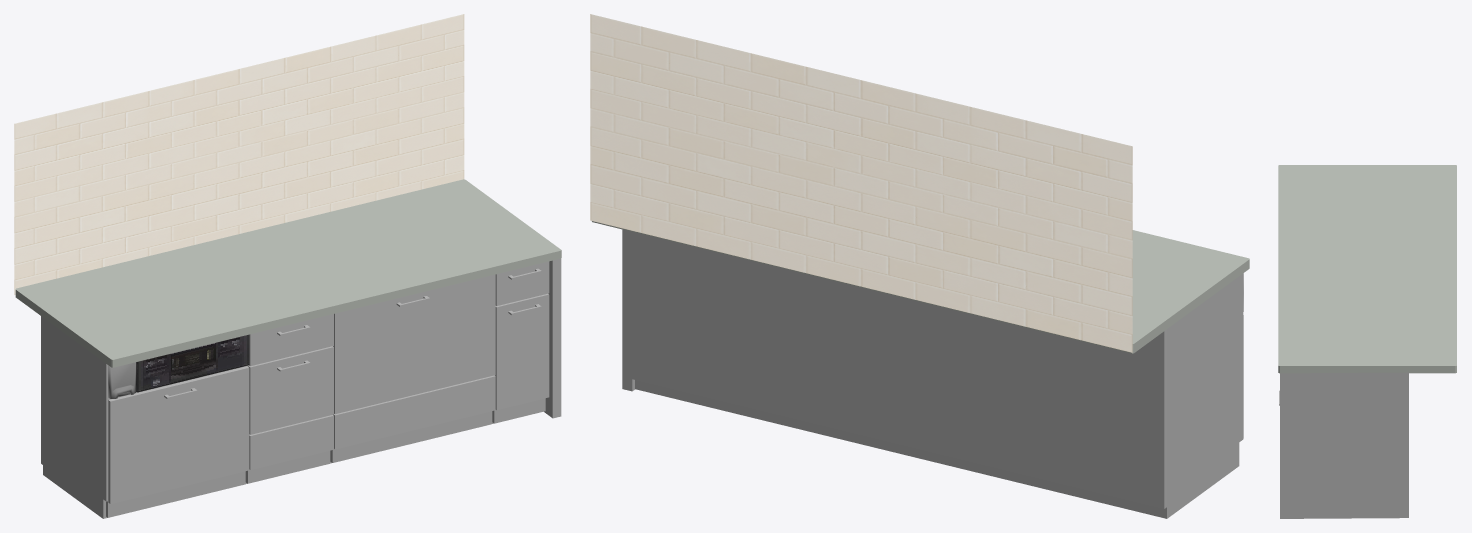
Rendered from simple.gltf.
The picture shows the model from 3 angles, left to right: view 1: azimuth 30°, elevation 25°; view 2: azimuth 150°, elevation 25°; view 3: azimuth 270°, elevation 25°; orthographic projection. The views are drawn at different scales.
Parts seen in each view (by area): view 1: 平面.003, 4_primitive.002, 3_primitive.002, 5_primitive.002, 14_primitive.002, 7_primitive.002, 8_primitive.002, 17_primitive.002; view 2: 平面.003, 6_primitive.002, 5_primitive.002, 3_primitive.002, 7_primitive.002; view 3: 3_primitive.002, 7_primitive.002.
Part boxes in pixels (<box>): 平面.003: <box>14,14,464,294</box>; 4_primitive.002: <box>108,261,549,503</box>; 3_primitive.002: <box>15,179,561,367</box>; 5_primitive.002: <box>43,317,545,518</box>; 14_primitive.002: <box>136,334,249,392</box>; 7_primitive.002: <box>544,258,561,418</box>; 8_primitive.002: <box>108,362,136,398</box>; 17_primitive.002: <box>164,268,541,399</box>; 平面.003: <box>590,14,1132,352</box>; 6_primitive.002: <box>632,232,1166,508</box>; 5_primitive.002: <box>635,273,1243,518</box>; 3_primitive.002: <box>592,221,1249,353</box>; 7_primitive.002: <box>622,229,634,391</box>; 3_primitive.002: <box>1278,165,1456,373</box>; 7_primitive.002: <box>1280,372,1408,518</box>.
Bounding box in the file's own units: 2.4 × 1.69 × 0.9032.
Materials: 9 (2 with a texture image).
